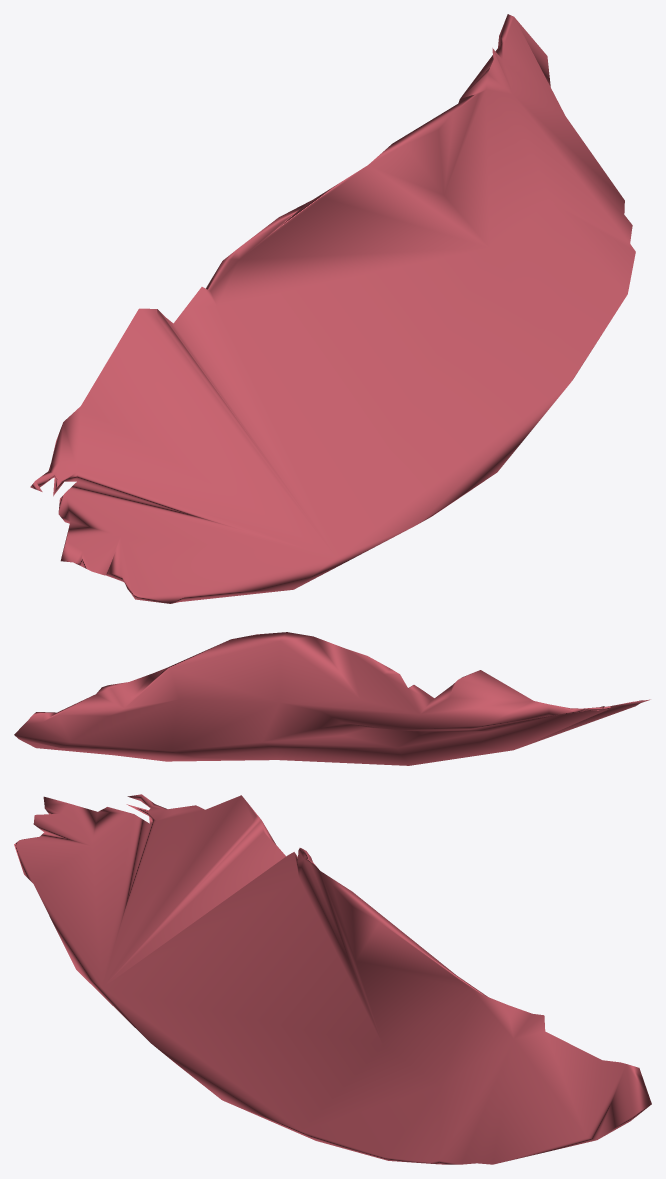
3 views of the same model, one above another, from view 1: azimuth 30°, elevation 25°; view 2: azimuth 150°, elevation 25°; view 3: azimuth 270°, elevation 25° (orthographic). The views are drawn at different scales.
Parts seen in each view (by area): view 1: 右侧皱眉肌; view 2: 右侧皱眉肌; view 3: 右侧皱眉肌.
Boxes of the visible parts, <box> form: 右侧皱眉肌: <box>30,14,635,603</box>; 右侧皱眉肌: <box>14,632,650,765</box>; 右侧皱眉肌: <box>14,794,651,1164</box>.
Bounding box in the file's own units: 0.0334 × 0.0104 × 0.028.
